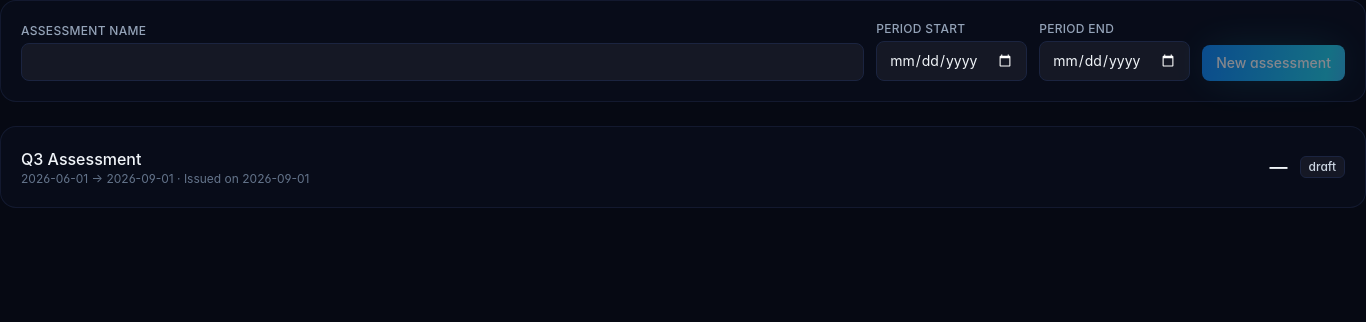
Test: AssessmentsTab — a draft has NOT measured anything › does not load findings or comparison for a draft
Click the button "Q3 Assessment".
click(81, 159)  # box [21,147,1345,187]
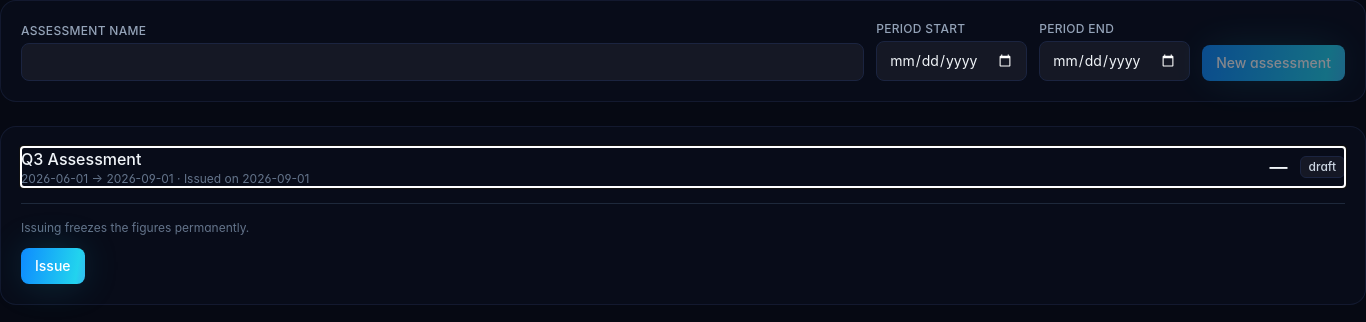
Result: the text "Issuing freezes the figures permanently." is shown at [21,220,249,235]
